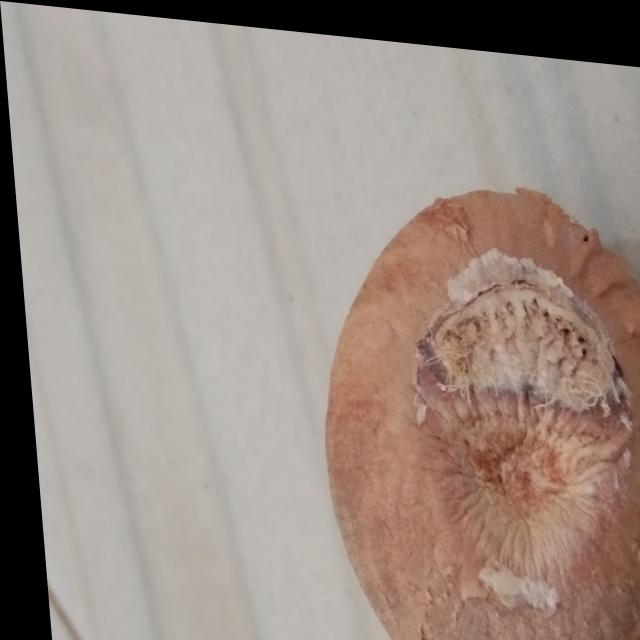good: (282, 130, 640, 640)
